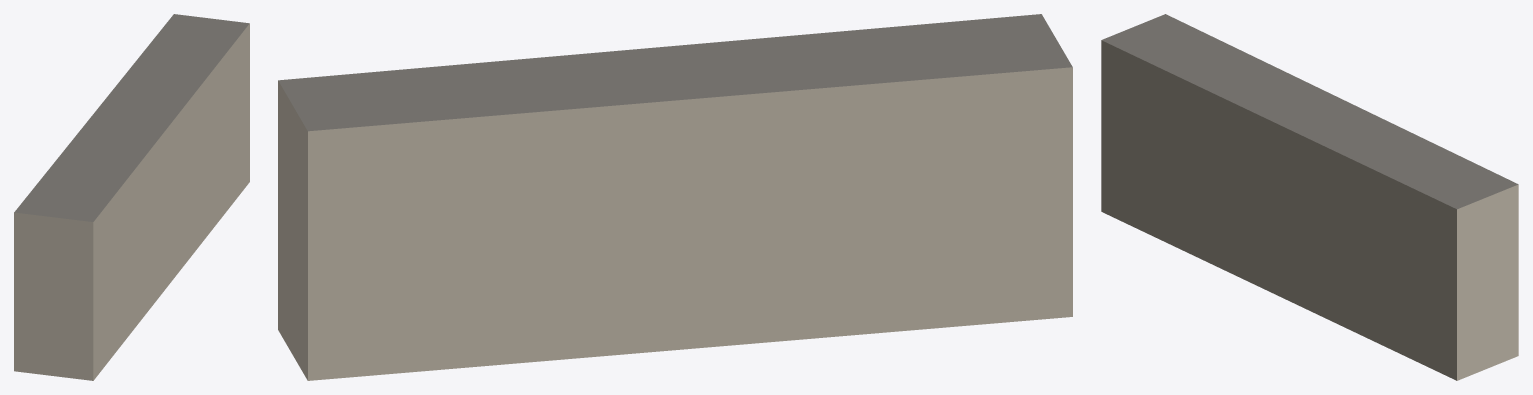
3 views of the same model, side by side, from view 1: azimuth 30°, elevation 25°; view 2: azimuth 150°, elevation 25°; view 3: azimuth 270°, elevation 25° (orthographic). The views are drawn at different scales.
Parts seen in each view (by area): view 1: HP-w729793765; view 2: HP-w729793765; view 3: HP-w729793765.
Boxes of the visible parts, x1,y1,x2,y2 form: HP-w729793765: [14, 14, 249, 380]; HP-w729793765: [278, 14, 1072, 380]; HP-w729793765: [1101, 14, 1518, 380].
Bounding box in the file's own units: 43.95 × 18 × 39.68.
